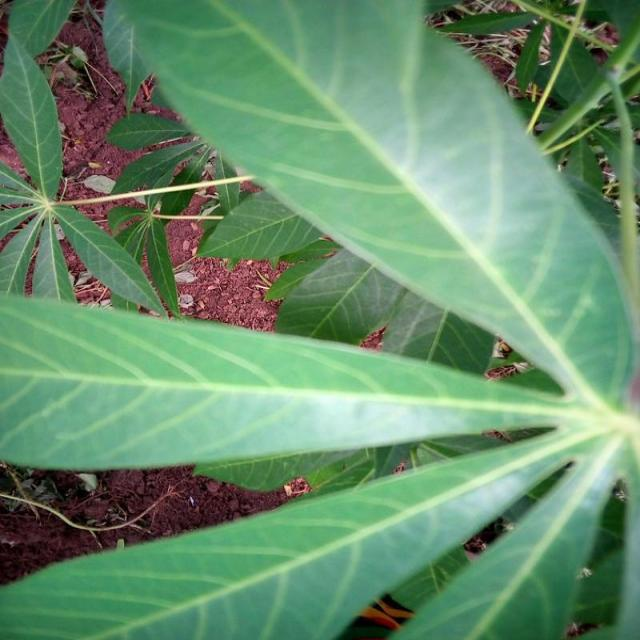cassava leaf: (0, 0, 638, 638), (0, 290, 568, 476)
